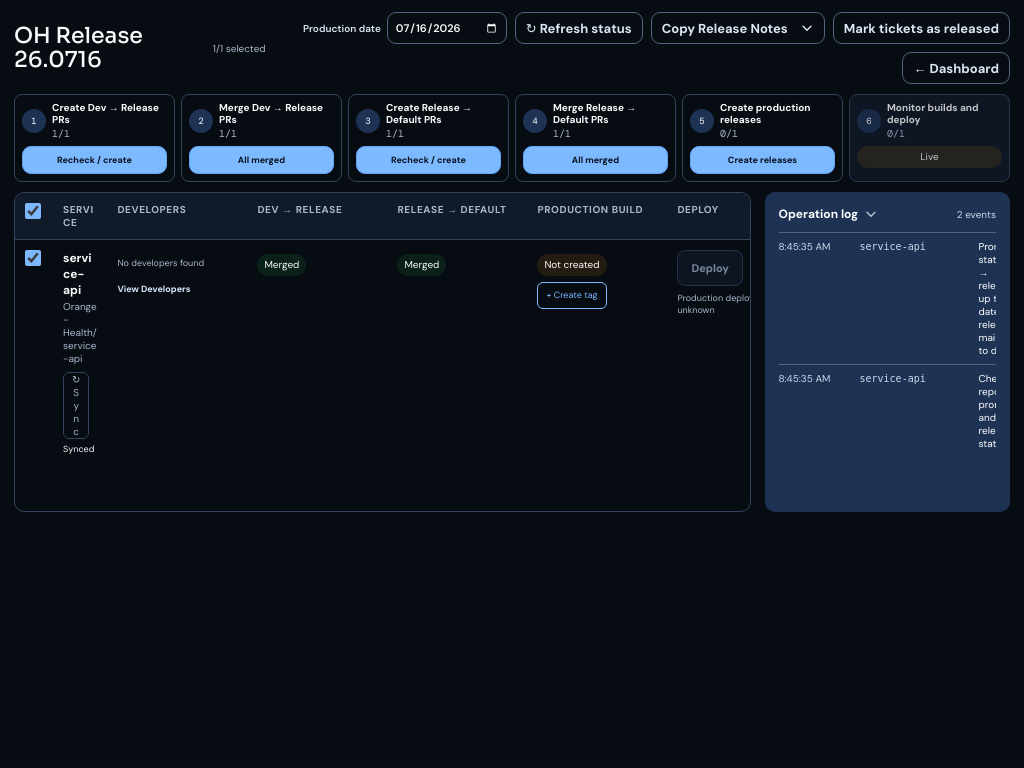
it: ReleaseDayOperations › locks the Jira button only after every ticket is marked released
Click the button "Mark tickets as released". click: (921, 28)
box: top-left (833, 12), bottom-right (1010, 44)
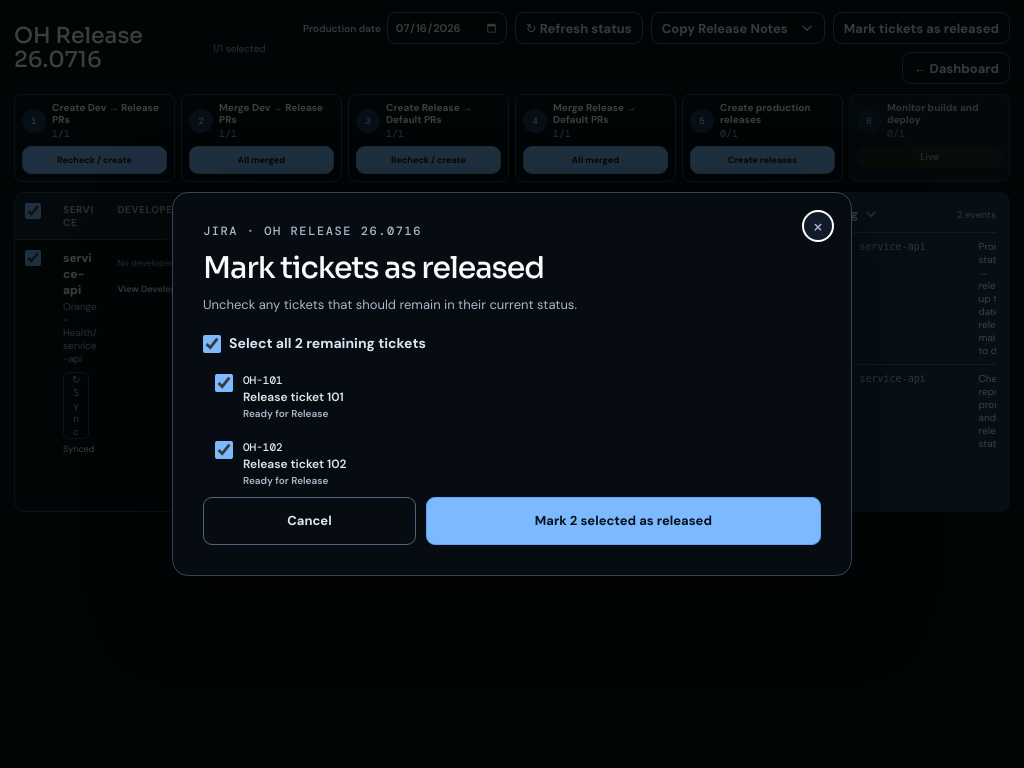
Click the button "Mark 2 selected as released". click: (623, 521)
box: top-left (426, 497), bottom-right (821, 545)
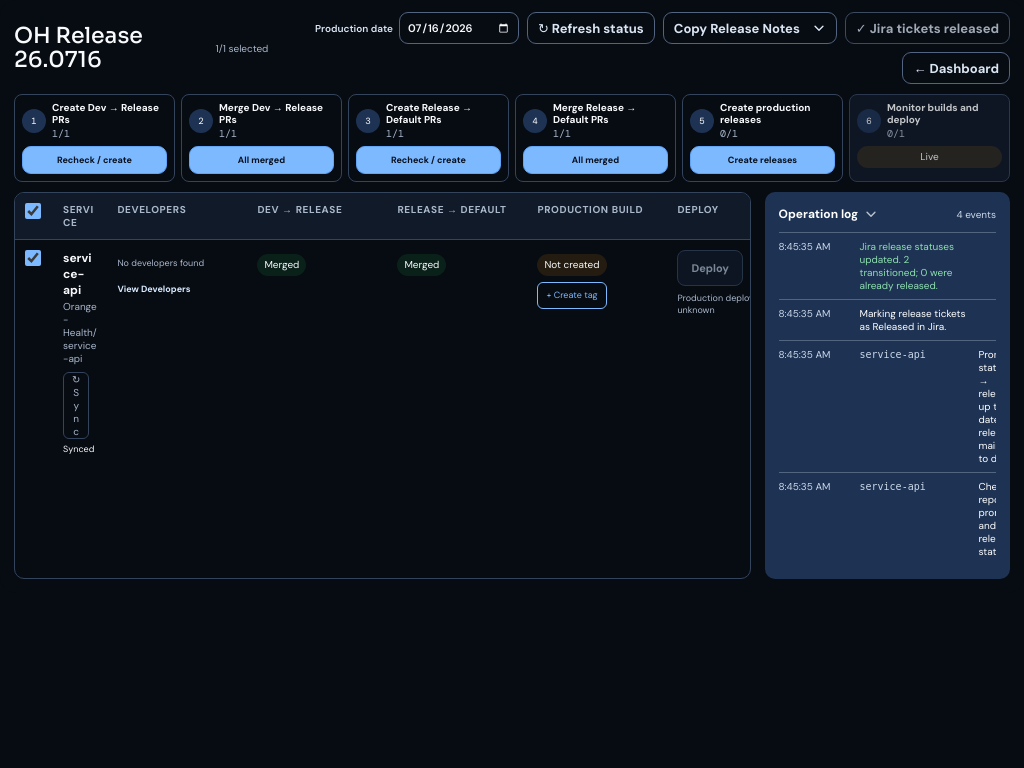
Now the button "✓ Jira tickets released" is disabled, box top-left (845, 12), bottom-right (1010, 44)
